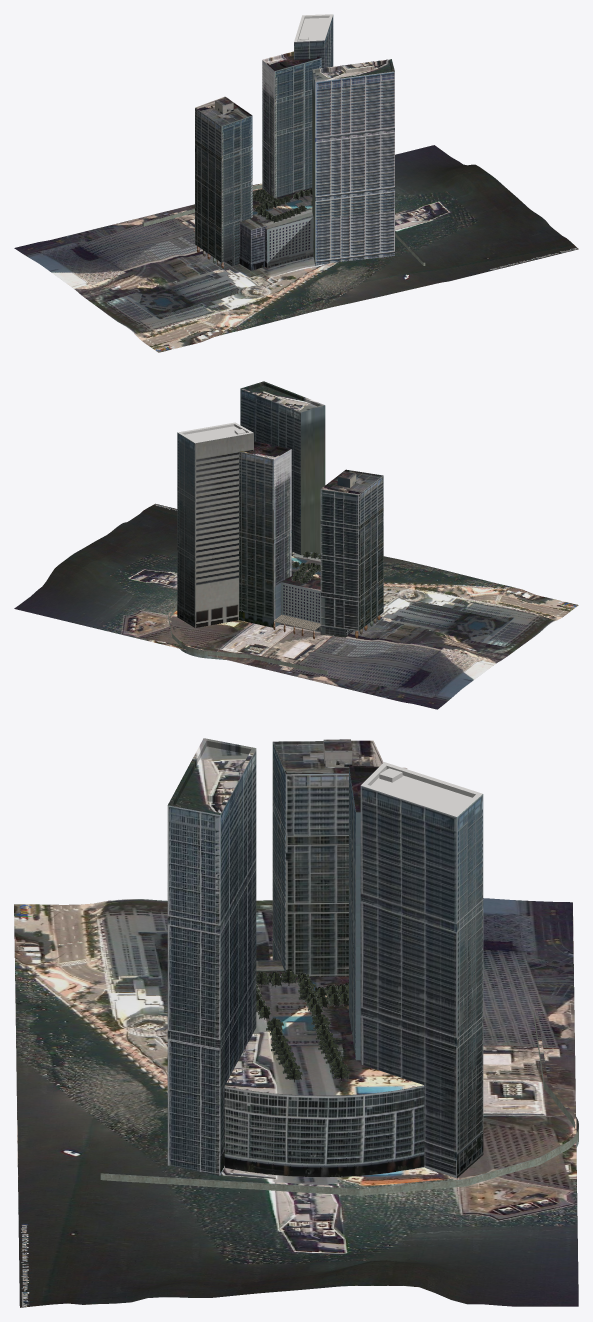
The model's file is Icon-Brickell-Towers.fbx.
3 renders of one model, top to bottom at view 1: azimuth 30°, elevation 25°; view 2: azimuth 150°, elevation 25°; view 3: azimuth 270°, elevation 25°, orthographic. The views are drawn at different scales.
Parts seen in each view (by area): view 1: Google_Earth_Terrain, Model; view 2: Model, Google_Earth_Terrain; view 3: Google_Earth_Terrain, Model.
Part boxes in pixels (x1=…): Google_Earth_Terrain: x1=14, y1=145, x2=578, y2=352; Model: x1=142, y1=14, x2=425, y2=270; Model: x1=168, y1=381, x2=383, y2=674; Google_Earth_Terrain: x1=14, y1=503, x2=578, y2=709; Google_Earth_Terrain: x1=14, y1=898, x2=578, y2=1307; Model: x1=100, y1=738, x2=578, y2=1195.
Size of the model in its own units: 17109 by 7419 by 10115.
